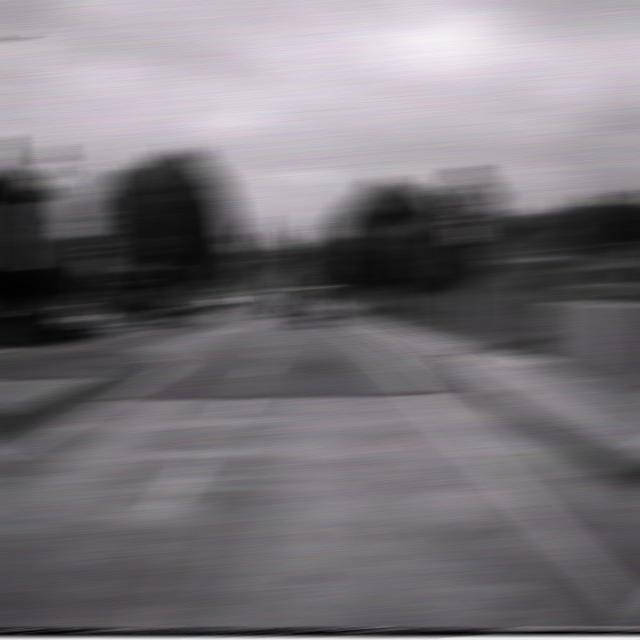speedLimit25: (449, 165, 484, 243), (81, 198, 116, 275)
